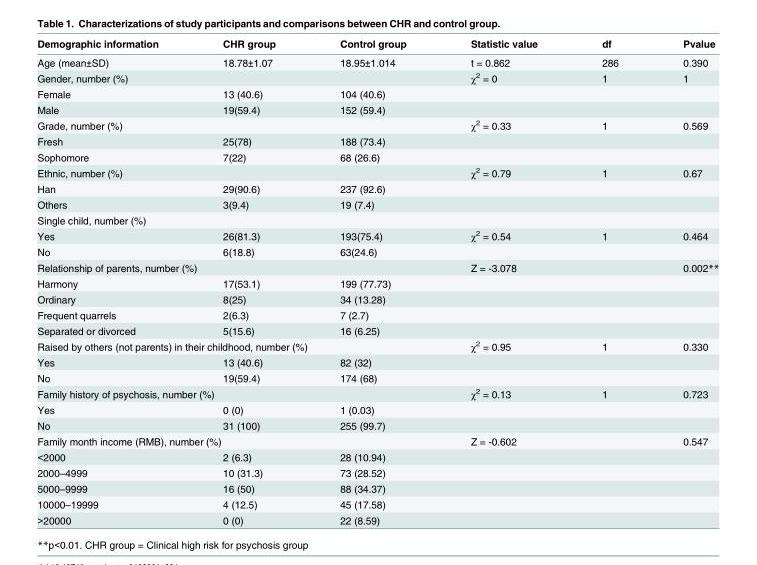table: (36, 37, 718, 525)
table column: (36, 37, 189, 525), (437, 37, 569, 525), (307, 37, 437, 525), (189, 37, 307, 525), (569, 37, 650, 525), (650, 37, 718, 525)
table column header: (36, 37, 718, 52)
table projected row header: (36, 212, 718, 227)
table row: (36, 52, 718, 69), (36, 116, 718, 133), (36, 337, 718, 354), (36, 384, 718, 401), (36, 69, 718, 85), (36, 85, 718, 101), (36, 148, 718, 164), (36, 164, 718, 180), (36, 180, 718, 196), (36, 196, 718, 212), (36, 227, 718, 243), (36, 243, 718, 259), (36, 259, 718, 275), (36, 290, 718, 306), (36, 306, 718, 322), (36, 401, 718, 417), (36, 417, 718, 433), (36, 448, 718, 464), (36, 464, 718, 480), (36, 480, 718, 496), (36, 37, 718, 52), (36, 101, 718, 116), (36, 133, 718, 148), (36, 212, 718, 227), (36, 275, 718, 290), (36, 322, 718, 337), (36, 354, 718, 369), (36, 369, 718, 384), (36, 433, 718, 448), (36, 496, 718, 511), (36, 511, 718, 525)
table spanning cell: (36, 337, 437, 354), (36, 433, 437, 448), (36, 116, 307, 133), (36, 384, 307, 401), (36, 69, 307, 85), (36, 164, 307, 180), (36, 259, 307, 275)
